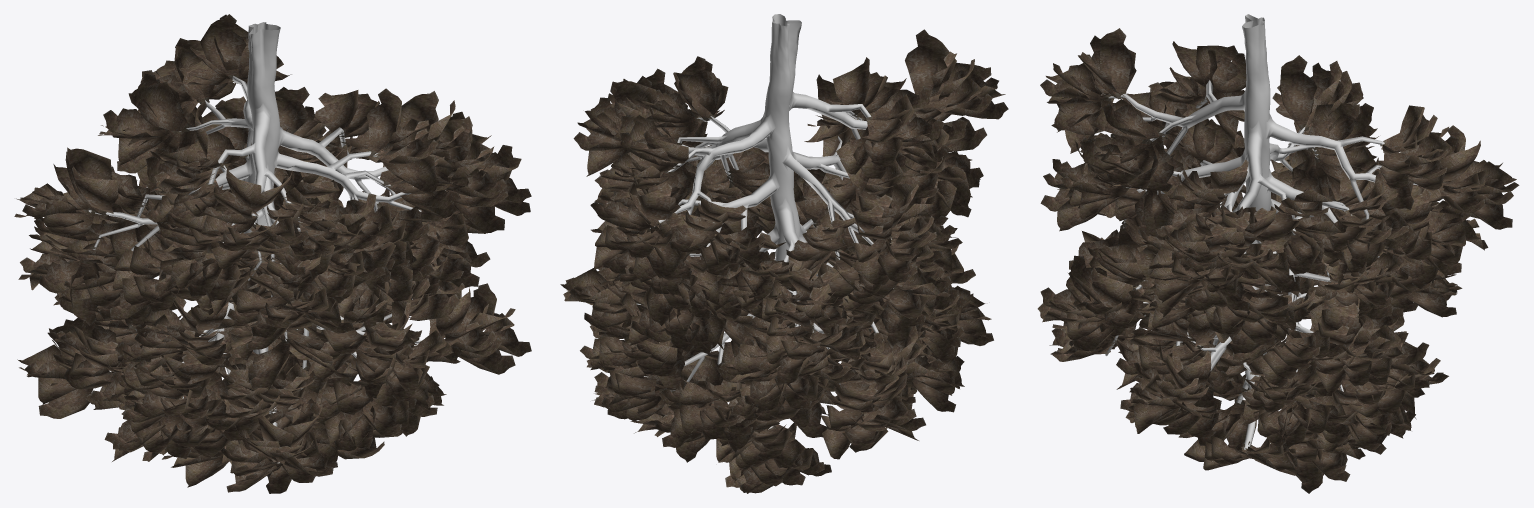
File: BIO_VEG_Tree_01B.fbx
3 renders of one model, left to right at view 1: azimuth 30°, elevation 25°; view 2: azimuth 150°, elevation 25°; view 3: azimuth 270°, elevation 25°, orthographic. The views are drawn at different scales.
Parts seen in each view (by area): view 1: BIO_VEG_Tree_01B; view 2: BIO_VEG_Tree_01B; view 3: BIO_VEG_Tree_01B.
Part boxes in pixels (x1=…): BIO_VEG_Tree_01B: x1=14, y1=14, x2=531, y2=493; BIO_VEG_Tree_01B: x1=560, y1=14, x2=1008, y2=493; BIO_VEG_Tree_01B: x1=1037, y1=14, x2=1519, y2=493.
Size of the model in its own units: 1773 by 1859 by 1802.
